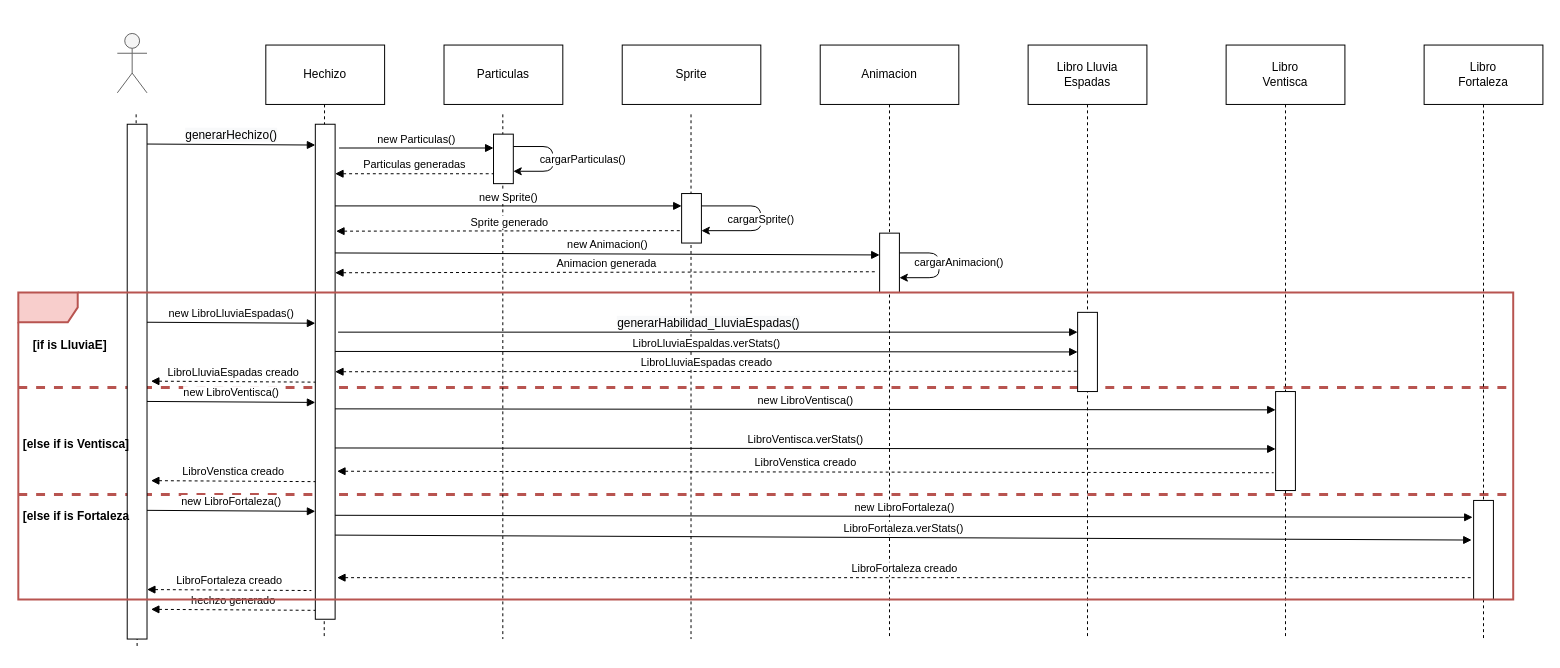
Image size: 1560x668. Some labels were removed from this diagram. Each missing label, with the box of its shape:
alt: (17, 291, 1514, 600)
Cliente: (116, 32, 147, 93)
